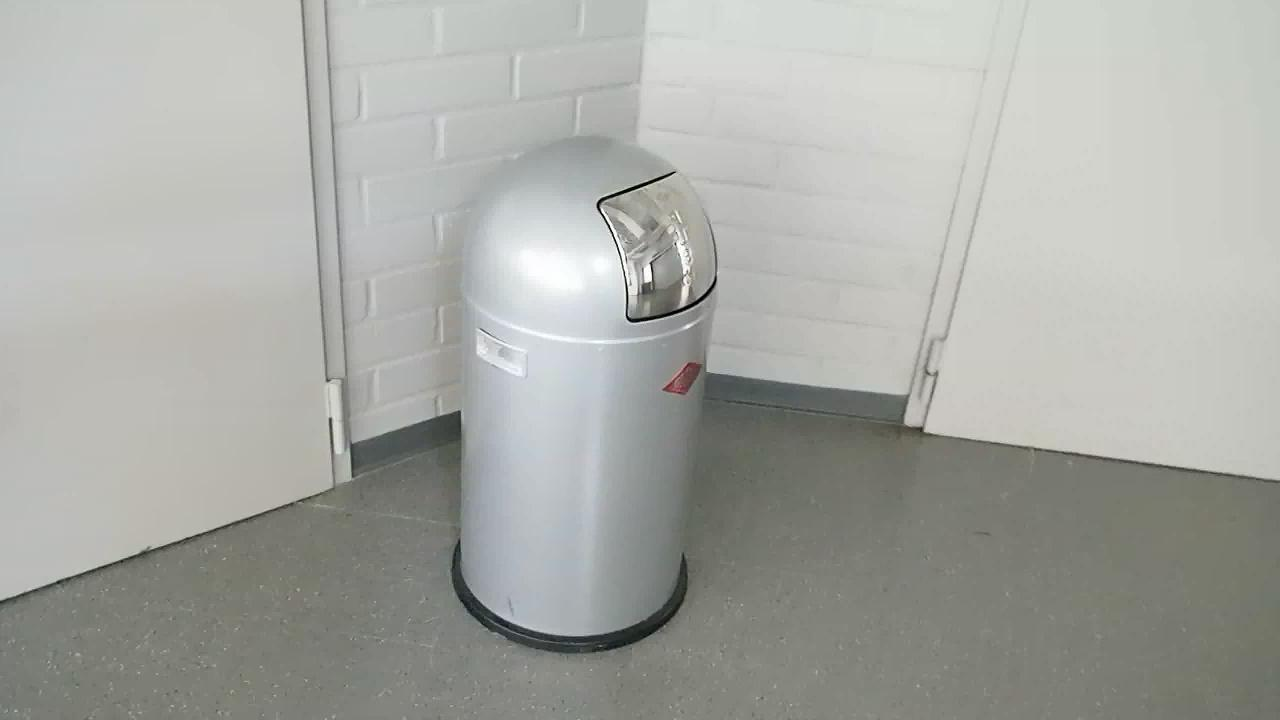trashbin: (451, 120, 726, 653)
